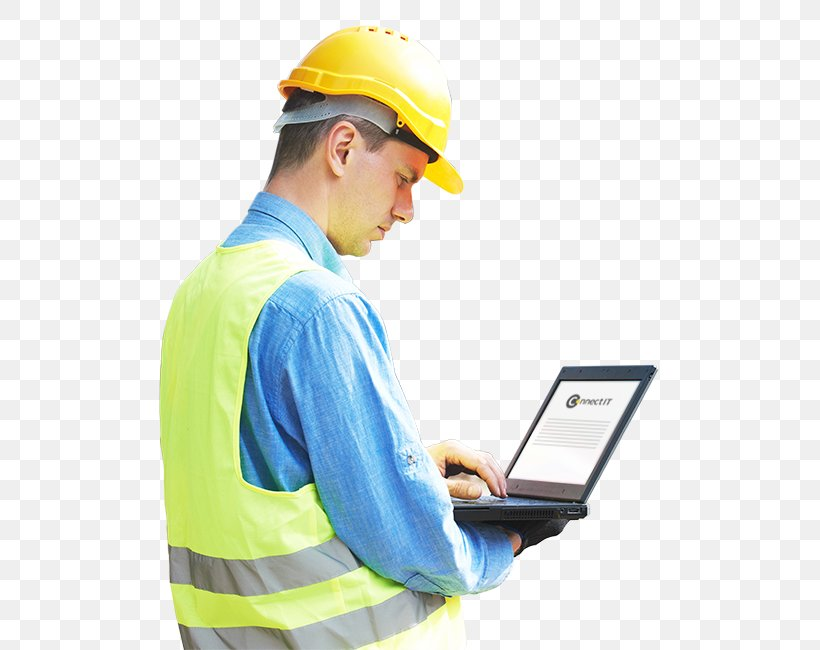Person_wearing_helmet: (259, 18, 480, 196), (259, 18, 481, 173)
